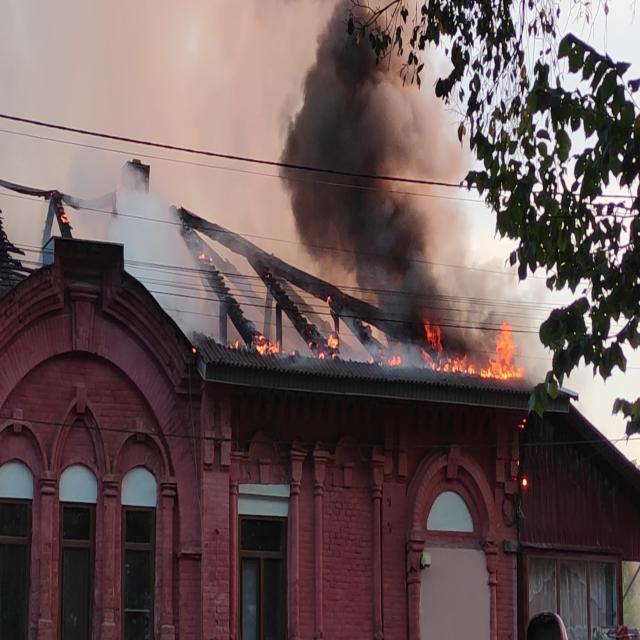fire: (421, 300, 523, 381)
smoke: (279, 0, 428, 301)
